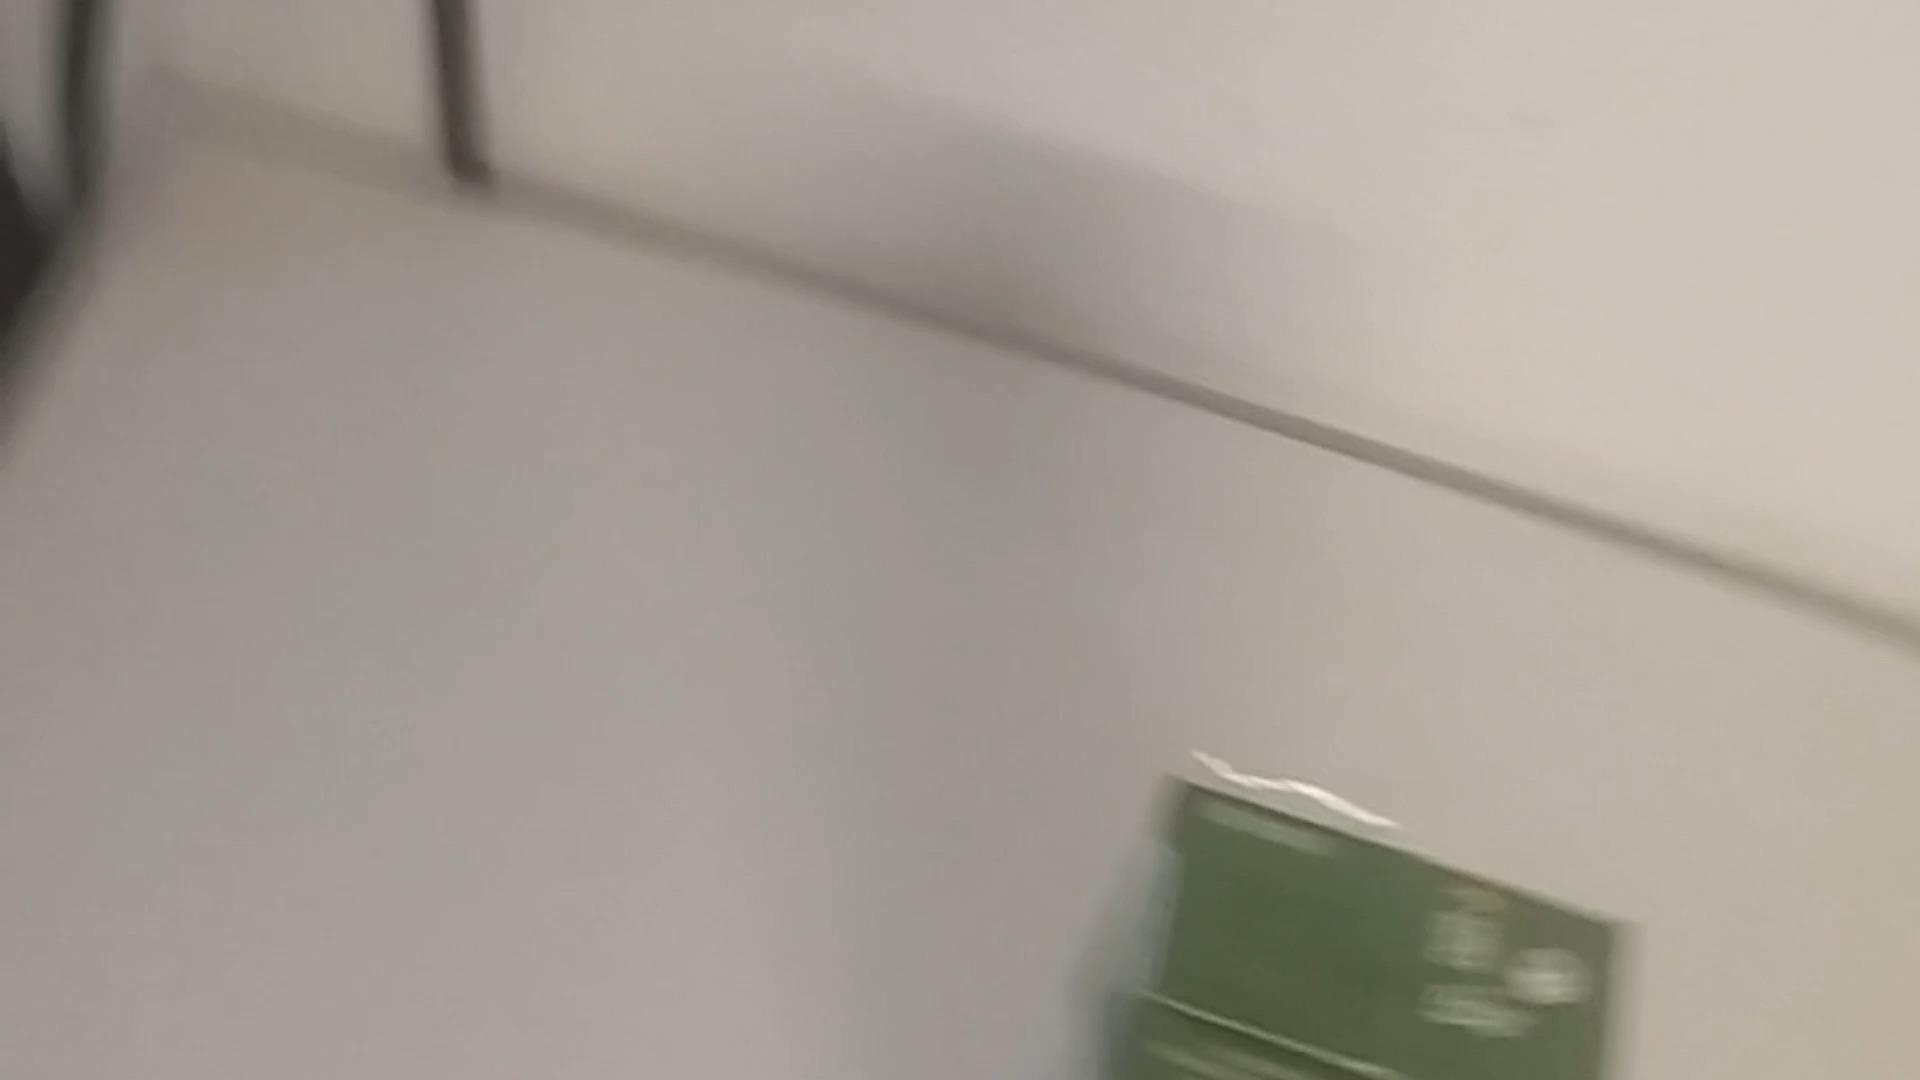coco: (1044, 753, 1668, 1080)
